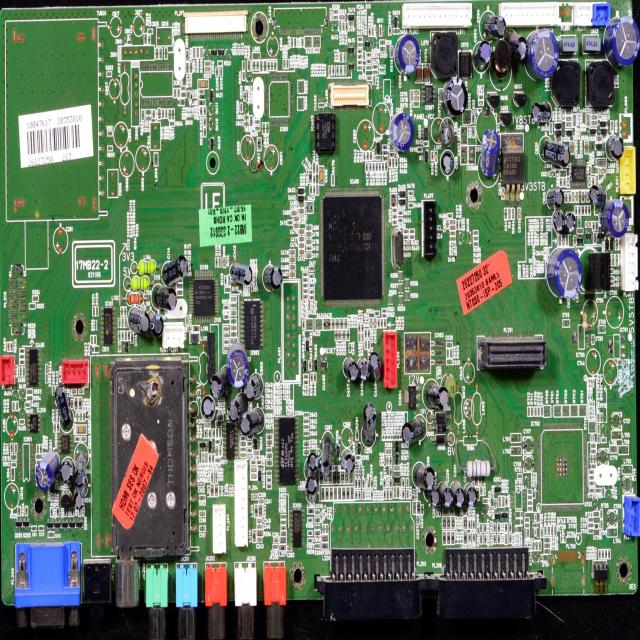Capacitor Jumper: (475, 6, 527, 80), (419, 462, 478, 501), (227, 395, 266, 436), (339, 351, 382, 385), (604, 294, 630, 336), (481, 124, 499, 180), (542, 138, 570, 166), (402, 415, 426, 446), (362, 400, 377, 448), (427, 380, 450, 410), (460, 126, 478, 164), (209, 369, 232, 398), (306, 453, 319, 502), (283, 242, 299, 280), (550, 213, 576, 235), (292, 223, 316, 246), (321, 434, 334, 476), (332, 316, 352, 342), (603, 358, 619, 390), (154, 23, 174, 48), (578, 306, 600, 328), (244, 375, 265, 398), (531, 99, 551, 123), (586, 348, 602, 377), (545, 186, 564, 209), (268, 34, 284, 60), (584, 31, 602, 54), (289, 198, 306, 222), (341, 447, 355, 473), (156, 106, 175, 124), (564, 190, 590, 203), (440, 150, 454, 173), (605, 508, 620, 528), (415, 64, 430, 84), (522, 454, 534, 473), (522, 437, 534, 455), (379, 37, 389, 58), (610, 117, 620, 136), (318, 166, 326, 187), (554, 136, 570, 146), (75, 424, 88, 436), (260, 122, 270, 136), (442, 506, 455, 515), (210, 470, 218, 484), (368, 316, 376, 330), (365, 328, 370, 350), (609, 444, 618, 456), (282, 57, 290, 70), (144, 108, 152, 121), (548, 168, 557, 179), (303, 440, 310, 454), (185, 314, 192, 328), (8, 452, 20, 460), (266, 433, 273, 445), (74, 436, 88, 442), (198, 523, 207, 532), (438, 86, 442, 106), (585, 220, 593, 230), (305, 254, 315, 262), (244, 113, 250, 126), (198, 509, 206, 518), (599, 167, 608, 175), (322, 524, 329, 534), (570, 140, 575, 154), (446, 338, 453, 348), (416, 514, 421, 527), (52, 418, 56, 434), (298, 247, 305, 256), (256, 518, 262, 528), (414, 90, 420, 100), (266, 452, 274, 459), (250, 493, 258, 500), (286, 545, 293, 553), (562, 107, 566, 121), (501, 186, 505, 200), (517, 207, 521, 221), (70, 388, 77, 396), (584, 203, 589, 214), (338, 487, 342, 500), (585, 140, 589, 153), (504, 206, 508, 219), (591, 334, 596, 344), (198, 480, 205, 487), (314, 517, 321, 524), (478, 101, 485, 108), (446, 359, 453, 366), (320, 472, 324, 484), (272, 538, 280, 544), (240, 441, 247, 447), (341, 470, 344, 484), (348, 22, 355, 28), (230, 309, 236, 316), (280, 531, 288, 536), (345, 470, 348, 483), (435, 150, 438, 163), (329, 471, 332, 483), (350, 472, 353, 484), (351, 486, 354, 498), (258, 498, 264, 504), (421, 502, 424, 514), (243, 89, 246, 101), (562, 234, 565, 246), (79, 388, 84, 395), (325, 473, 328, 484), (215, 447, 218, 457), (494, 498, 497, 508), (314, 531, 320, 536), (446, 220, 449, 230), (322, 486, 324, 499), (231, 325, 236, 330), (258, 538, 262, 542), (211, 461, 212, 461)
Connector: (485, 88, 502, 110), (498, 110, 514, 127), (513, 89, 528, 107), (600, 118, 610, 136), (553, 122, 563, 137), (594, 142, 605, 151), (588, 127, 597, 136), (564, 130, 573, 138)
IC: (188, 264, 222, 324), (403, 328, 445, 373), (264, 74, 294, 133), (239, 298, 268, 356), (276, 414, 299, 486), (18, 437, 35, 480), (289, 503, 306, 546), (25, 346, 43, 386), (100, 305, 116, 347), (223, 422, 240, 460), (401, 384, 425, 410), (608, 333, 628, 362), (572, 322, 591, 352), (570, 158, 587, 188), (25, 411, 45, 436), (421, 82, 436, 108), (382, 78, 394, 104), (514, 488, 524, 510), (418, 126, 432, 140), (320, 355, 329, 372)
Resistor: (525, 406, 544, 418), (597, 547, 611, 559), (600, 508, 603, 530)
Resistor Jumper: (163, 321, 187, 349), (56, 432, 76, 456), (554, 404, 587, 418), (588, 442, 597, 491), (305, 318, 330, 332), (7, 484, 18, 514), (304, 35, 321, 52), (525, 484, 535, 512), (365, 162, 388, 174), (295, 95, 310, 113), (391, 207, 405, 226), (295, 77, 308, 97), (355, 478, 366, 500), (514, 511, 524, 534), (442, 515, 456, 531), (22, 400, 44, 409), (332, 7, 346, 21), (192, 44, 204, 60), (541, 524, 557, 536), (24, 394, 43, 404), (26, 386, 43, 397), (250, 115, 260, 133), (504, 522, 512, 544), (144, 29, 154, 46), (449, 221, 457, 242), (198, 76, 210, 89), (403, 228, 416, 240), (4, 340, 16, 353), (493, 522, 500, 544), (472, 229, 480, 247), (388, 191, 398, 205), (10, 399, 20, 413), (302, 373, 311, 388), (222, 254, 230, 270), (468, 530, 476, 544), (404, 290, 412, 304), (544, 404, 552, 418), (363, 151, 374, 161), (305, 243, 315, 254), (378, 317, 388, 328), (544, 536, 550, 554), (591, 112, 598, 127), (359, 322, 364, 343), (204, 60, 212, 73), (508, 207, 516, 220), (382, 143, 388, 160), (31, 293, 41, 303), (307, 529, 314, 543), (468, 518, 476, 530), (586, 112, 592, 128), (388, 12, 392, 36), (387, 294, 395, 306), (90, 334, 98, 346), (357, 49, 363, 64), (572, 113, 578, 128), (331, 169, 336, 187), (575, 205, 584, 215), (106, 68, 114, 79), (106, 127, 114, 138), (309, 372, 317, 383), (242, 60, 246, 81), (566, 115, 572, 129), (397, 282, 404, 294), (204, 428, 212, 438), (329, 486, 334, 502), (422, 140, 432, 148), (558, 177, 566, 187), (28, 301, 36, 311), (266, 477, 272, 490), (404, 277, 410, 290), (597, 411, 604, 422), (398, 296, 404, 308), (325, 486, 330, 500), (446, 348, 453, 358), (336, 470, 341, 483), (258, 504, 263, 517), (367, 52, 372, 65), (56, 418, 60, 434), (516, 472, 524, 480), (416, 146, 424, 154), (222, 302, 230, 310), (371, 478, 374, 499), (594, 174, 599, 186), (398, 270, 403, 282), (382, 307, 387, 319), (10, 461, 18, 468), (412, 102, 420, 109), (107, 144, 114, 152), (430, 148, 434, 162), (230, 295, 237, 303), (223, 313, 230, 321), (247, 442, 252, 453), (388, 478, 393, 489), (354, 455, 363, 461), (332, 470, 336, 483), (566, 234, 570, 247), (224, 275, 228, 288), (355, 429, 360, 439), (346, 487, 350, 499), (56, 506, 60, 518), (256, 530, 264, 536), (197, 88, 205, 94), (477, 94, 485, 100), (558, 234, 562, 246), (342, 488, 346, 499), (388, 158, 392, 169), (334, 486, 337, 500), (307, 516, 313, 523), (217, 60, 224, 66), (408, 190, 414, 197), (286, 219, 293, 225), (374, 310, 380, 317), (357, 36, 364, 42), (479, 534, 483, 544), (362, 64, 366, 74), (395, 157, 398, 170), (588, 203, 591, 216), (50, 506, 53, 518), (389, 151, 395, 157), (591, 164, 594, 176), (408, 202, 414, 208), (593, 511, 600, 516), (266, 447, 272, 452), (383, 478, 386, 488), (594, 529, 599, 535), (460, 218, 462, 232), (484, 535, 487, 544), (142, 108, 144, 121), (484, 521, 486, 533), (281, 526, 287, 530), (448, 212, 452, 218), (480, 522, 482, 533), (384, 488, 386, 498), (56, 382, 58, 387), (42, 394, 43, 396)
Transistor: (296, 185, 307, 201), (218, 42, 227, 60), (495, 509, 509, 520), (210, 43, 219, 60), (584, 229, 593, 245), (597, 229, 606, 245), (346, 44, 356, 58), (393, 472, 401, 486), (347, 61, 357, 72), (392, 14, 400, 27), (576, 234, 584, 247), (312, 358, 320, 371), (394, 440, 401, 454), (301, 359, 308, 373), (364, 38, 372, 50), (482, 106, 490, 117), (346, 13, 357, 21), (393, 456, 401, 466), (258, 466, 262, 484), (306, 334, 310, 352), (200, 440, 207, 450), (356, 441, 361, 455), (215, 421, 223, 428), (209, 441, 213, 454), (216, 415, 224, 421), (494, 487, 500, 492)
